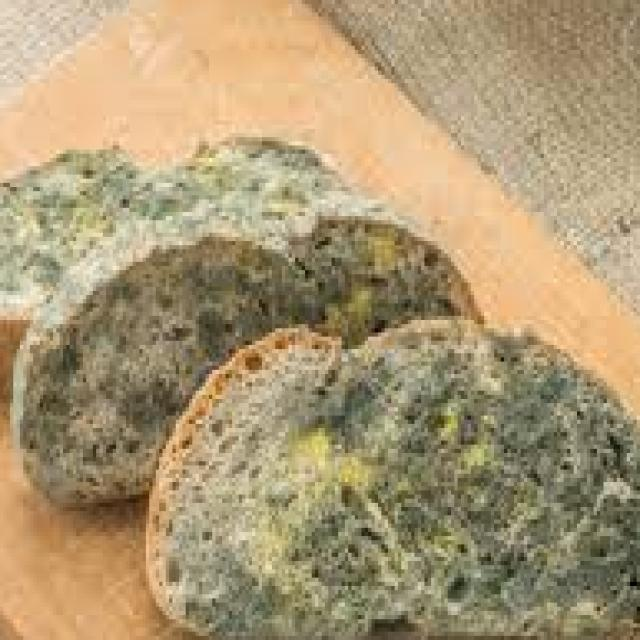inorganic: (0, 111, 625, 609)
